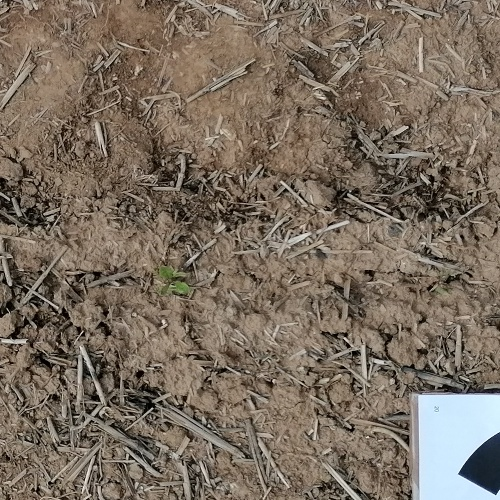beet: (156, 265, 193, 300)
